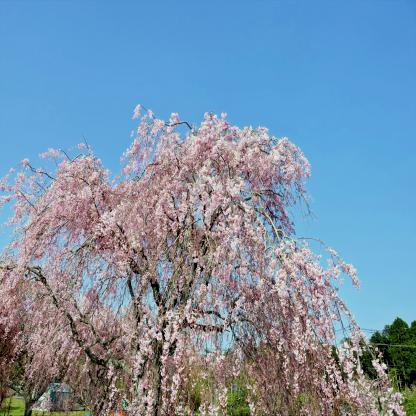ShidareZakura: (0, 104, 407, 416)
